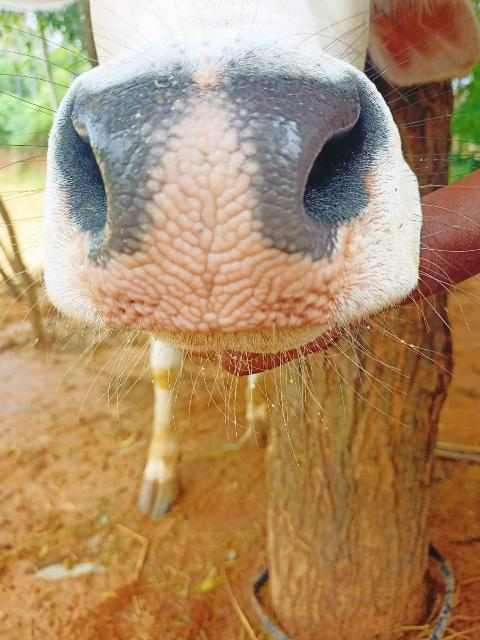Muzzle: (79, 88, 317, 304)
